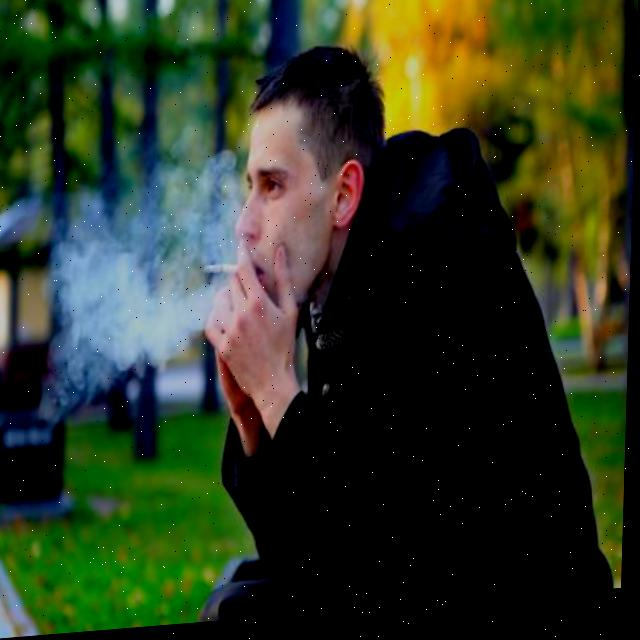cigarette: (204, 267, 240, 282)
